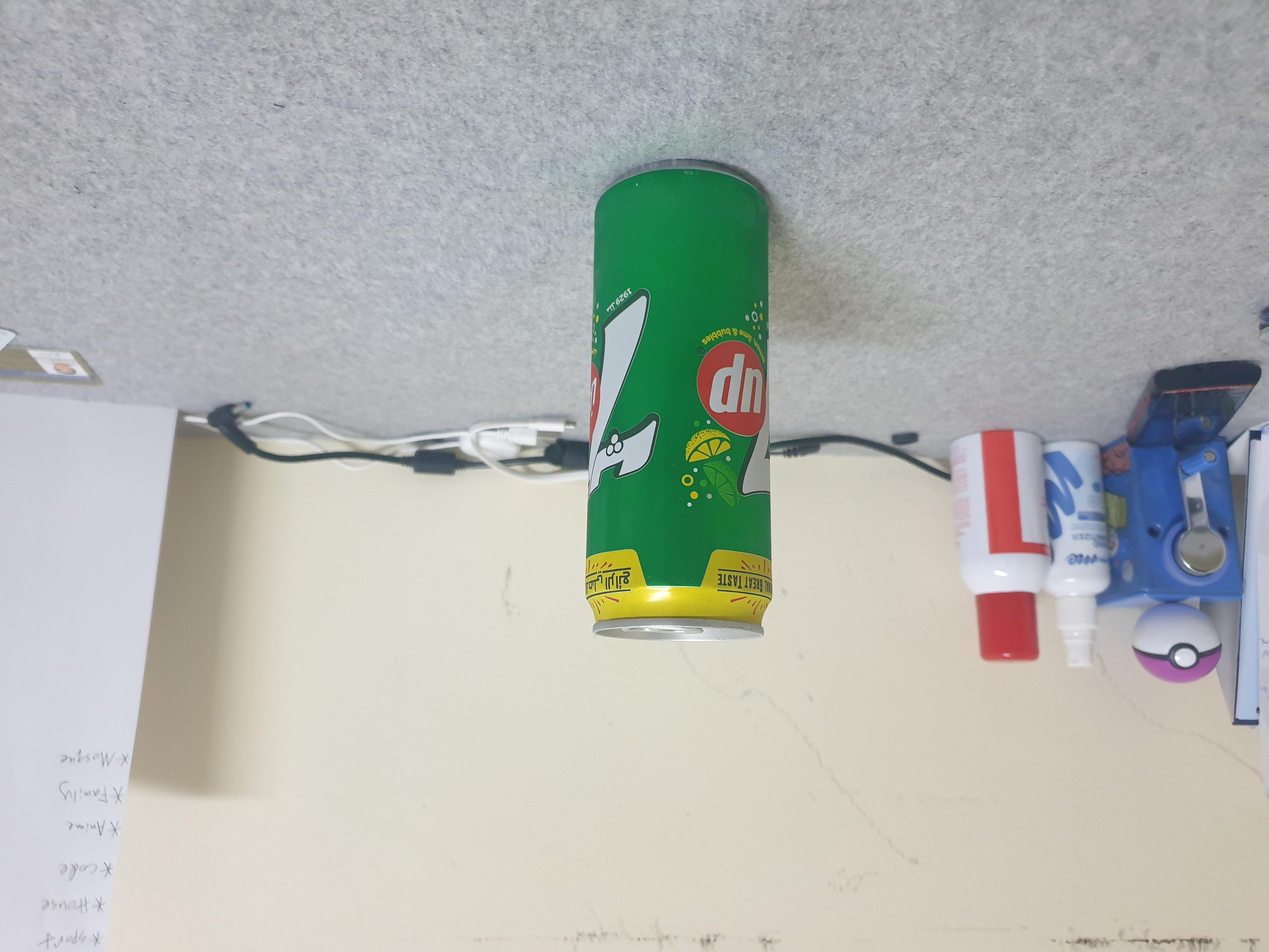debris: (582, 147, 777, 649)
